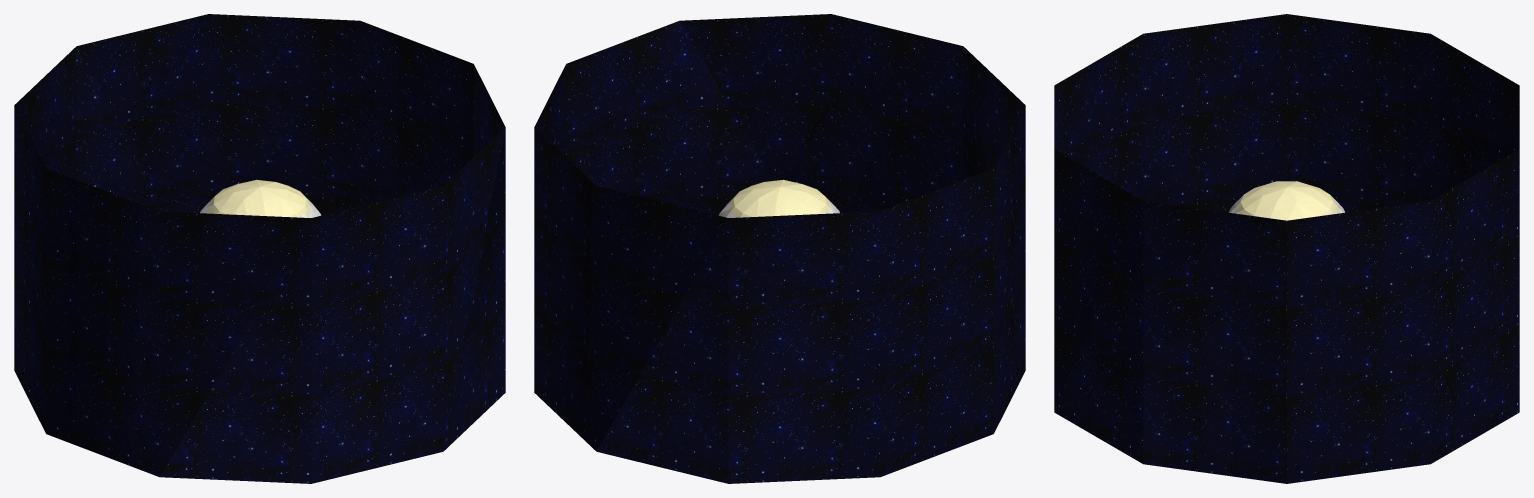
Rendered from Chao Lobby (Version 4).obj.
3 views of the same model, side by side, from view 1: azimuth 30°, elevation 25°; view 2: azimuth 150°, elevation 25°; view 3: azimuth 270°, elevation 25° (orthographic).
Visible parts, largest first — view 1: Mesh_0060; view 2: Mesh_0060; view 3: Mesh_0060.
Boxes of the visible parts, left/top/right/bottom form: Mesh_0060: left=14, top=14, right=505, bottom=483; Mesh_0060: left=534, top=14, right=1025, bottom=483; Mesh_0060: left=1054, top=14, right=1519, bottom=483.
Bounding box in the file's own units: 120 × 71.29 × 114.
17 materials, 17 textured.
